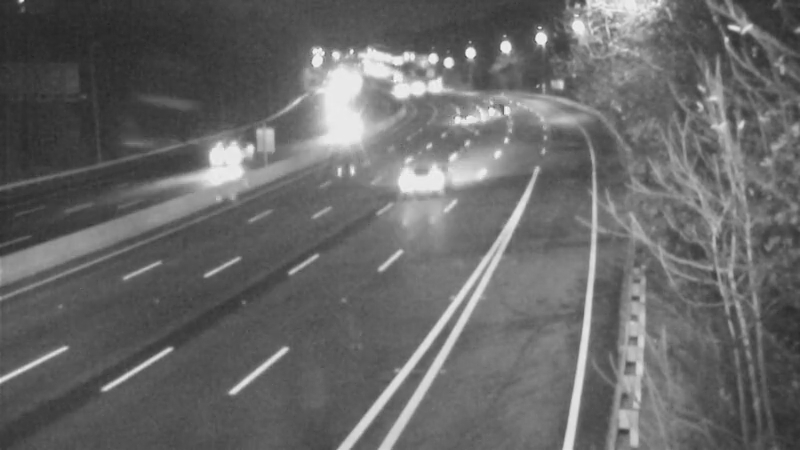vehicle: (390, 136, 470, 216), (186, 119, 266, 199), (370, 63, 420, 113), (472, 96, 522, 146), (431, 94, 481, 144), (323, 106, 373, 156)
